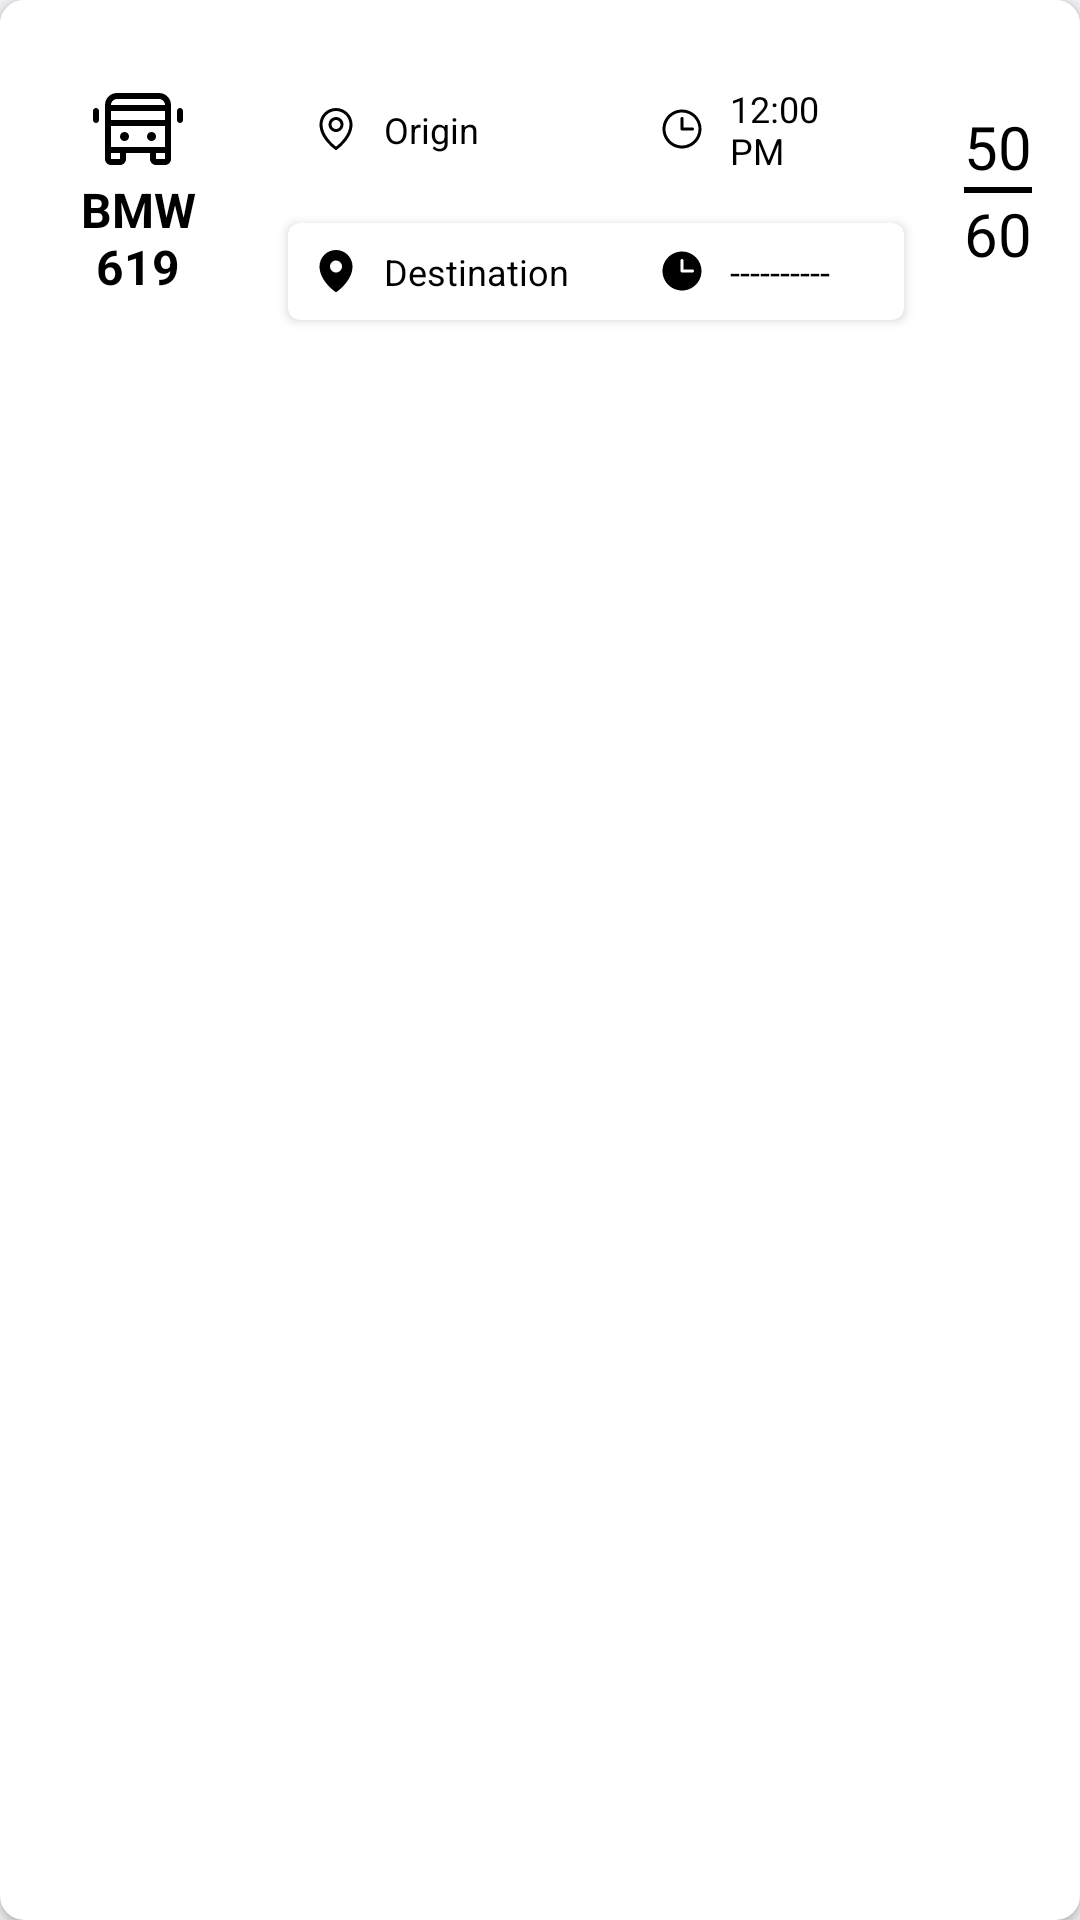

Point at icon controls on the screen. Image size 1080px x 1920px, points as [x,y].
bus: [138,129]
clock: [682,129], [682,271]
pin: [336,129], [336,271]
